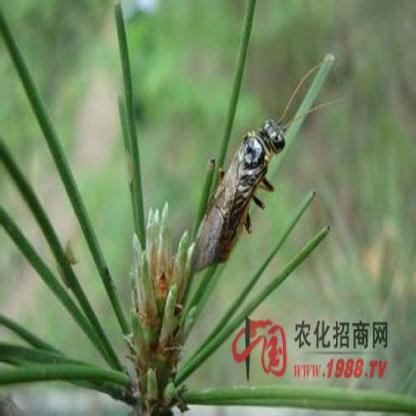sawfly: (186, 51, 332, 285)
